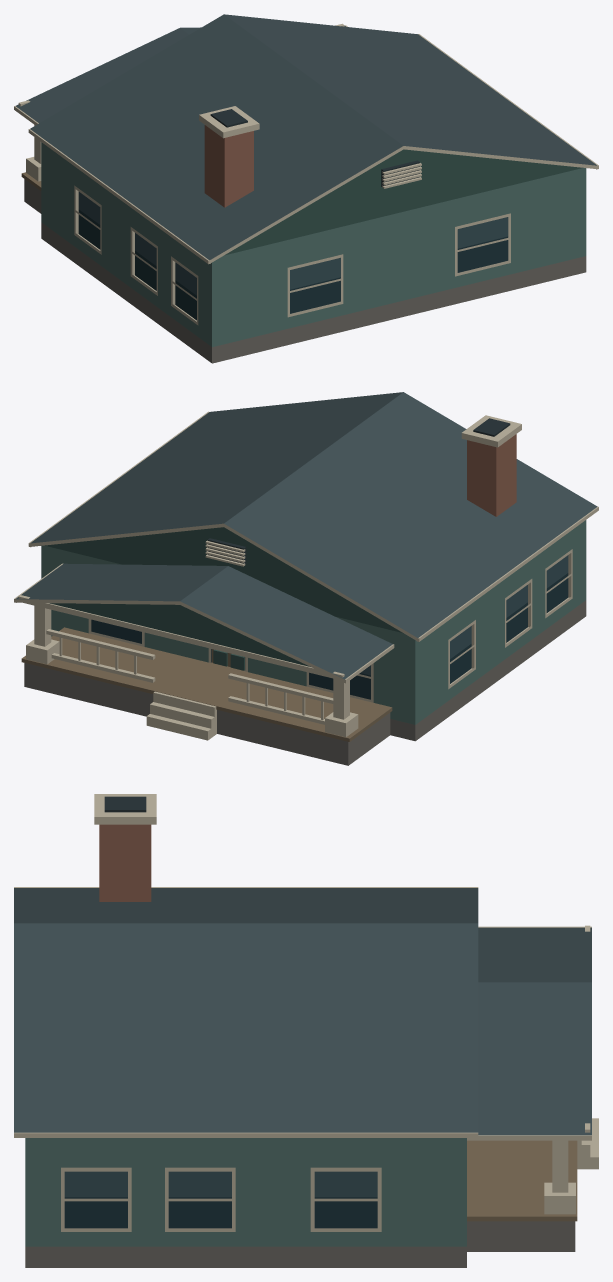
The model's file is house-3k-1floor.glb.
3 renders of one model, top to bottom at view 1: azimuth 30°, elevation 25°; view 2: azimuth 150°, elevation 25°; view 3: azimuth 270°, elevation 25°, orthographic. The views are drawn at different scales.
Visible parts, largest first — view 1: house-3k-1floor; view 2: house-3k-1floor; view 3: house-3k-1floor.
Part boxes in pixels (box(x1,y1,x2,y2)): house-3k-1floor: box(14, 14, 598, 363); house-3k-1floor: box(14, 392, 598, 765); house-3k-1floor: box(14, 794, 598, 1267).
Bounding box in the file's own units: 13.99 × 6.99 × 14.05.
